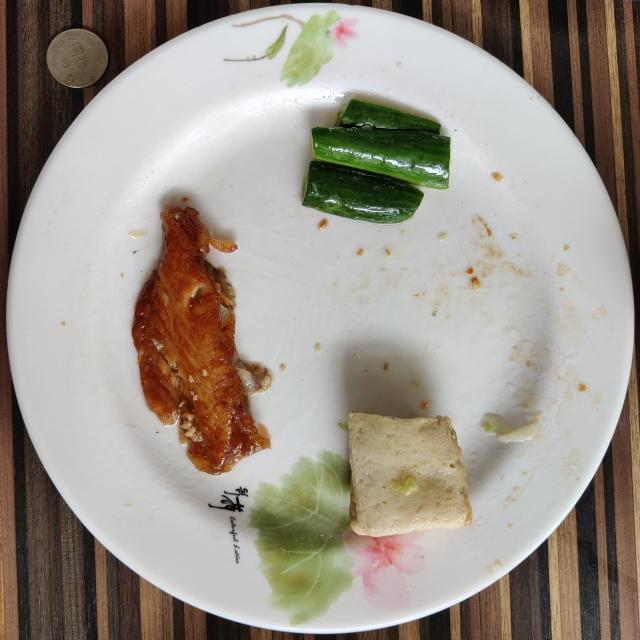Kabayaki sea bream fillet: (132, 206, 271, 474)
coin: (46, 29, 108, 88)
creamy tofu -without sauce-: (348, 412, 472, 538)
cucumber: (302, 100, 450, 224)
